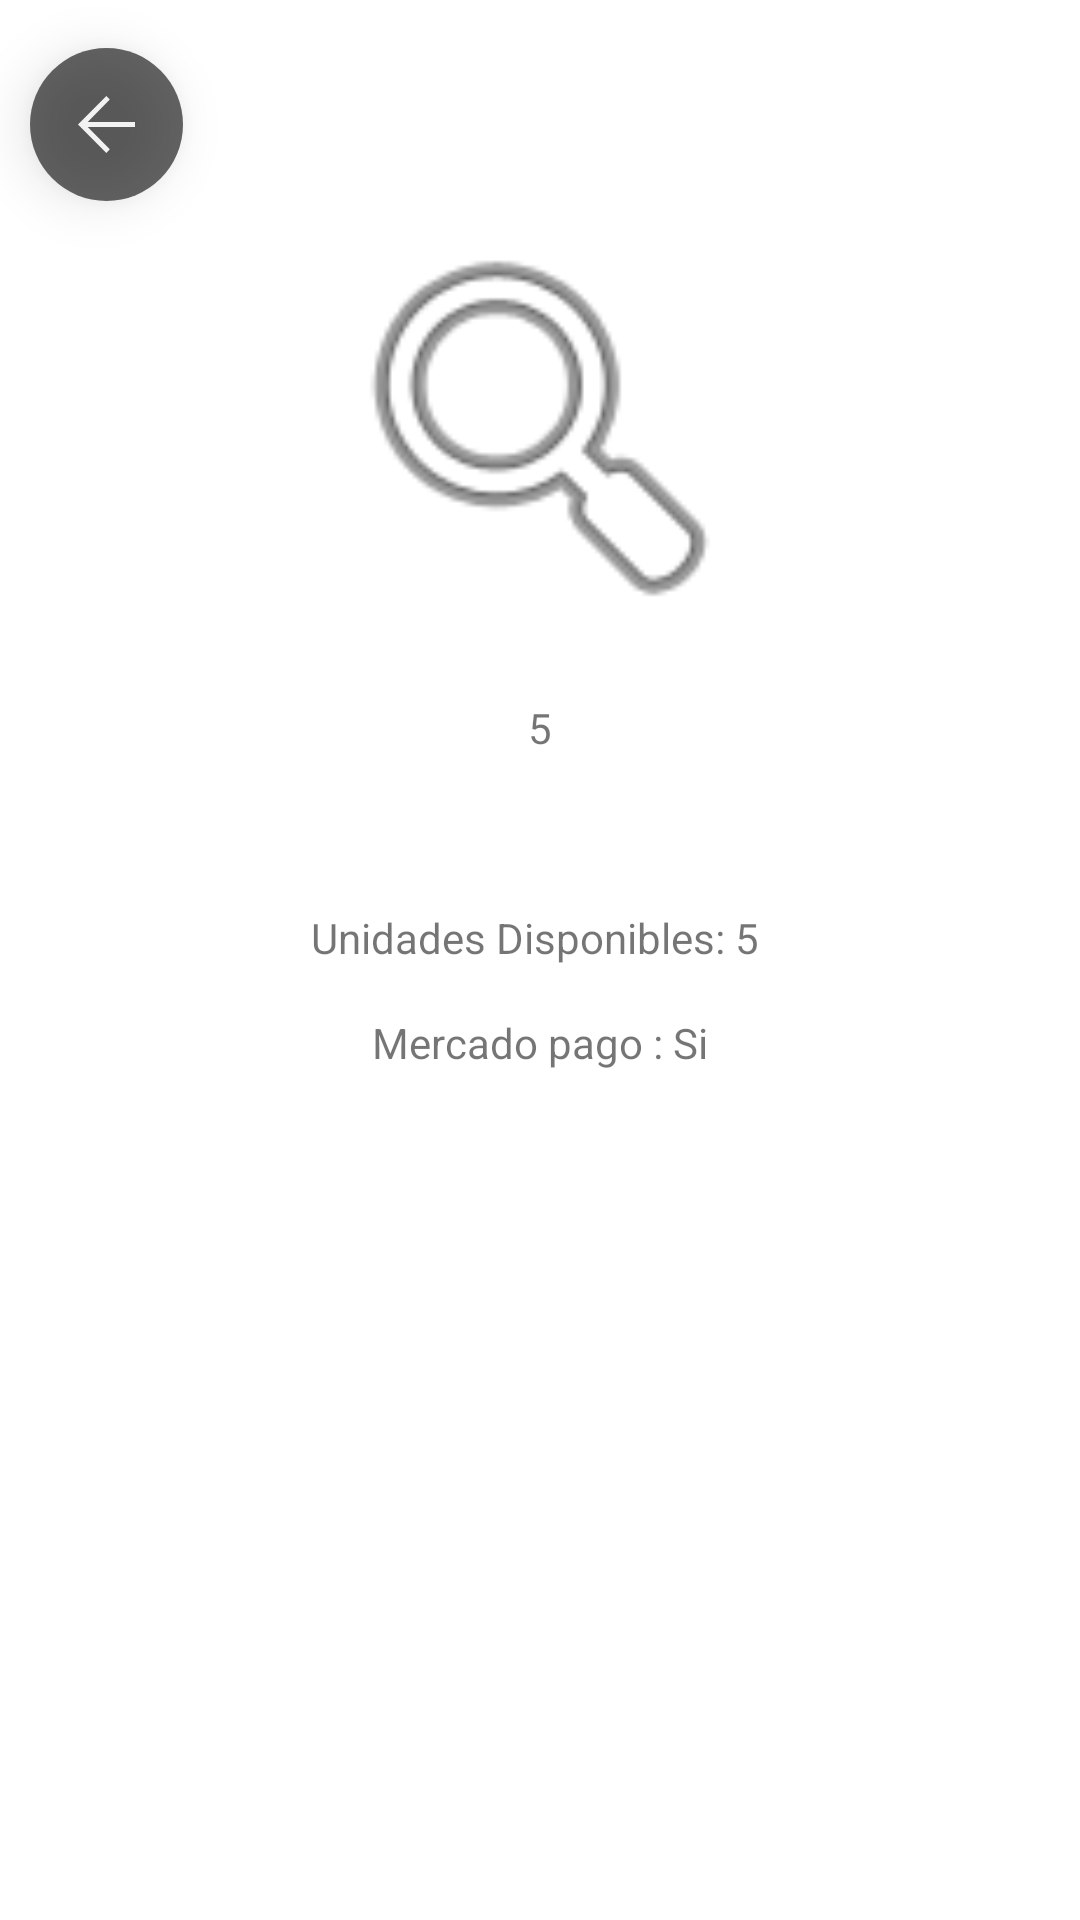

Icon click points for this 1080×1920 phone screenshot, format [x,y]:
back: [106,124]
search: [540,428]
